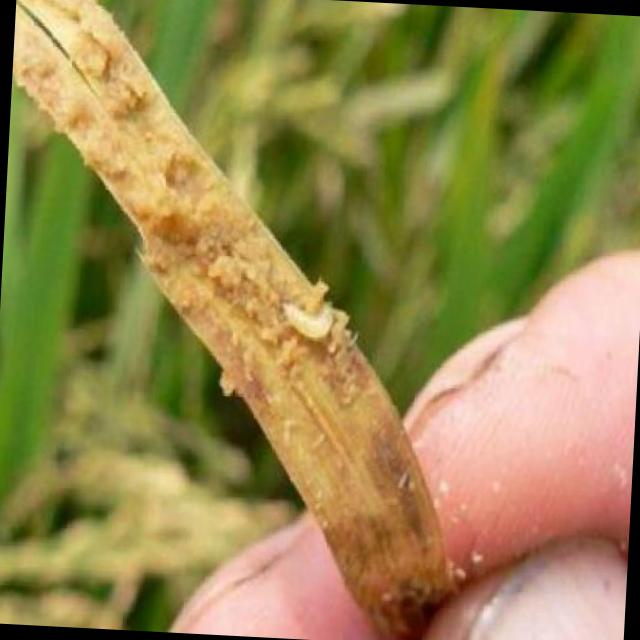whorl-maggot: (269, 294, 343, 350)
